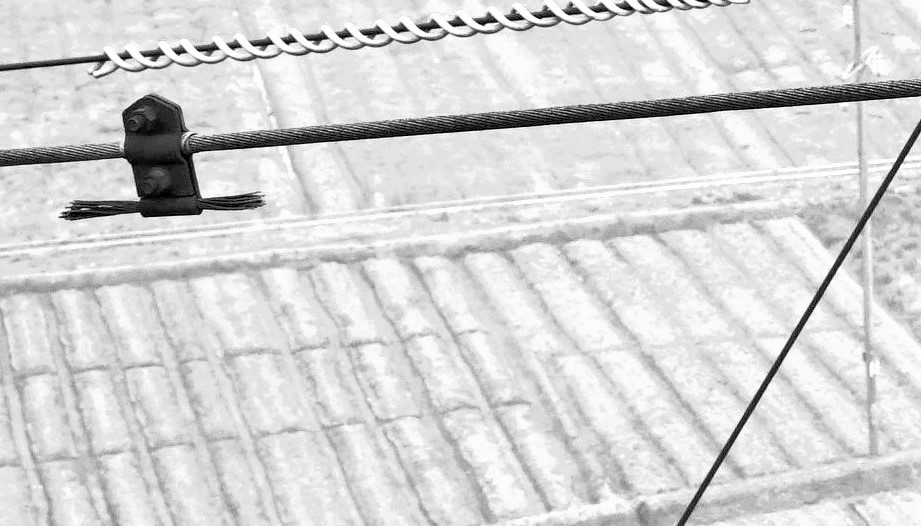Damage of shockproof hammer: (51, 81, 276, 234)
